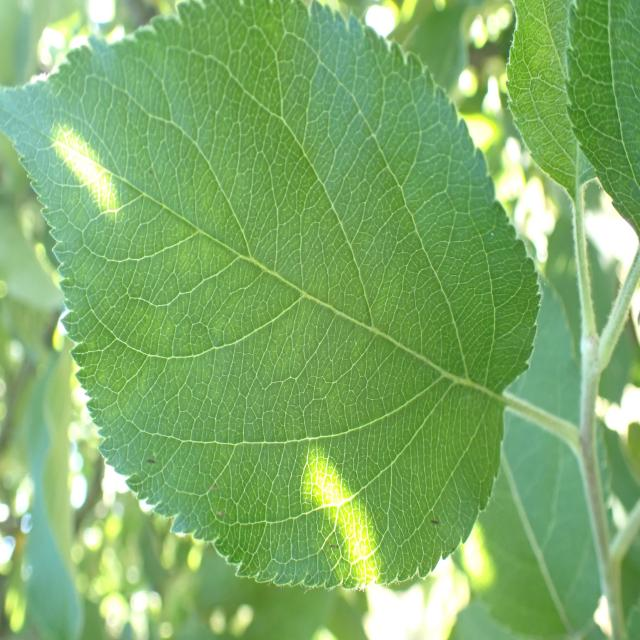healthy: (1, 0, 540, 591), (505, 1, 640, 237)
